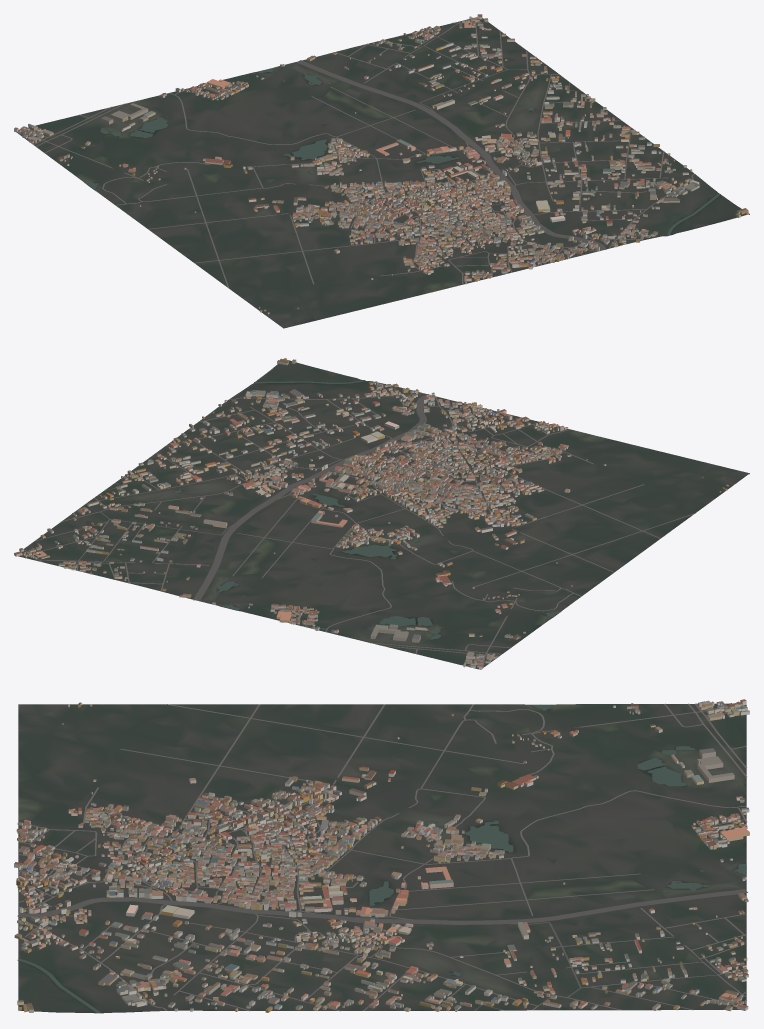
The picture shows the model from 3 angles, top to bottom: view 1: azimuth 30°, elevation 25°; view 2: azimuth 150°, elevation 25°; view 3: azimuth 270°, elevation 25°; orthographic projection. The views are drawn at different scales.
Parts seen in each view (by area): view 1: ground, buildings, roads, water; view 2: ground, buildings, roads, water; view 3: ground, buildings, roads, water.
Boxes of the visible parts, box(x1,y1,x2,y2) form: ground: box(17, 17, 749, 328); buildings: box(14, 14, 748, 314); roads: box(16, 21, 695, 288); water: box(88, 67, 720, 235); ground: box(18, 360, 749, 669); buildings: box(14, 358, 728, 669); roads: box(24, 386, 694, 667); water: box(174, 380, 559, 639); ground: box(18, 703, 746, 1013); buildings: box(14, 699, 749, 1012); roads: box(17, 703, 747, 1011); water: box(17, 704, 745, 1013).
Size of the model in its own units: 1411 by 21.81 by 1417.
